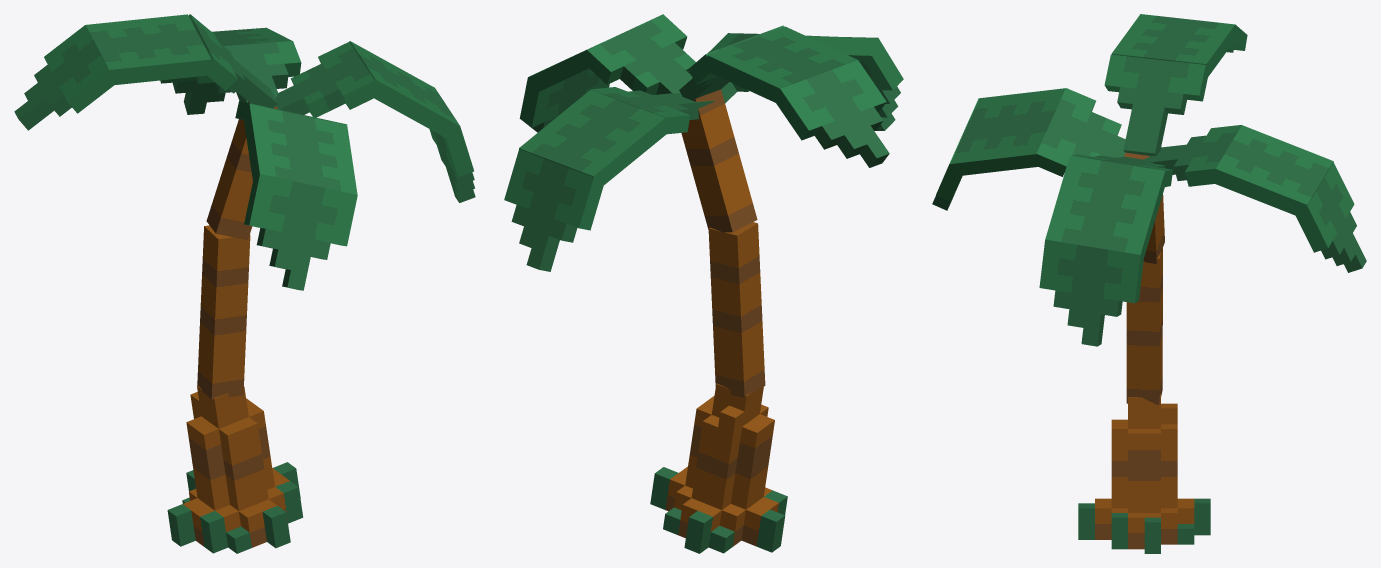
The model's file is PN-PalmTreeStatic.gltf.
3 views of the same model, side by side, from view 1: azimuth 30°, elevation 25°; view 2: azimuth 150°, elevation 25°; view 3: azimuth 270°, elevation 25° (orthographic). The views are drawn at different scales.
Visible parts, largest first — view 1: palmTree03-Local, l102$$(2)-Local, Node$$(1)-Local, l101$$(2)-Local, l101$$(3)-Local, l102$$(3)-Local, l200-Local, l101$$(1)-Local, Node-Local, l100-Local, l400-Local, l102$$(1)-Local (+2 smaller); view 2: palmTree03-Local, Node$$(1)-Local, l101-Local, l102$$(3)-Local, l102-Local, Node-Local, l101$$(3)-Local, l200-Local, l102$$(1)-Local, l100-Local, l102$$(2)-Local, l101$$(1)-Local (+3 smaller); view 3: palmTree03-Local, l101$$(1)-Local, l102$$(1)-Local, l101$$(2)-Local, l101-Local, l400-Local, l101$$(3)-Local, Node$$(1)-Local, l300-Local, l102-Local, l100-Local, Node-Local (+2 smaller).
Part boxes in pixels (<box>): palmTree03-Local: <box>167,385,303,553</box>; l102$$(2)-Local: <box>244,174,357,290</box>; Node$$(1)-Local: <box>197,225,250,399</box>; l101$$(2)-Local: <box>244,104,357,194</box>; l101$$(3)-Local: <box>85,14,211,85</box>; l102$$(3)-Local: <box>14,25,118,130</box>; l200-Local: <box>275,42,381,117</box>; l101$$(1)-Local: <box>349,41,459,139</box>; Node-Local: <box>206,101,277,239</box>; l100-Local: <box>195,41,301,102</box>; l400-Local: <box>188,14,277,108</box>; l102$$(1)-Local: <box>429,87,475,202</box>; palmTree03-Local: <box>650,383,787,553</box>; Node$$(1)-Local: <box>708,222,765,397</box>; l101-Local: <box>519,89,665,188</box>; l102$$(3)-Local: <box>773,60,889,167</box>; l102-Local: <box>504,149,605,271</box>; Node-Local: <box>681,89,757,232</box>; l101$$(3)-Local: <box>707,26,857,104</box>; l200-Local: <box>587,15,695,94</box>; l102$$(1)-Local: <box>519,43,609,132</box>; l100-Local: <box>591,87,714,134</box>; l102$$(2)-Local: <box>847,37,903,130</box>; l101$$(1)-Local: <box>528,14,663,92</box>; palmTree03-Local: <box>1078,394,1210,553</box>; l101$$(1)-Local: <box>1045,155,1166,262</box>; l102$$(1)-Local: <box>1039,239,1143,346</box>; l101$$(2)-Local: <box>950,88,1065,176</box>; l101-Local: <box>1211,125,1333,218</box>; l400-Local: <box>1104,54,1207,156</box>; l101$$(3)-Local: <box>1111,14,1235,78</box>; Node$$(1)-Local: <box>1126,248,1162,404</box>; l300-Local: <box>1036,88,1125,176</box>; l102-Local: <box>1296,162,1366,272</box>; l100-Local: <box>1144,125,1241,186</box>; Node-Local: <box>1124,147,1164,263</box>.
Bounding box in the file's own units: 26.41 × 31.42 × 26.3.
15 materials, 15 textured.
